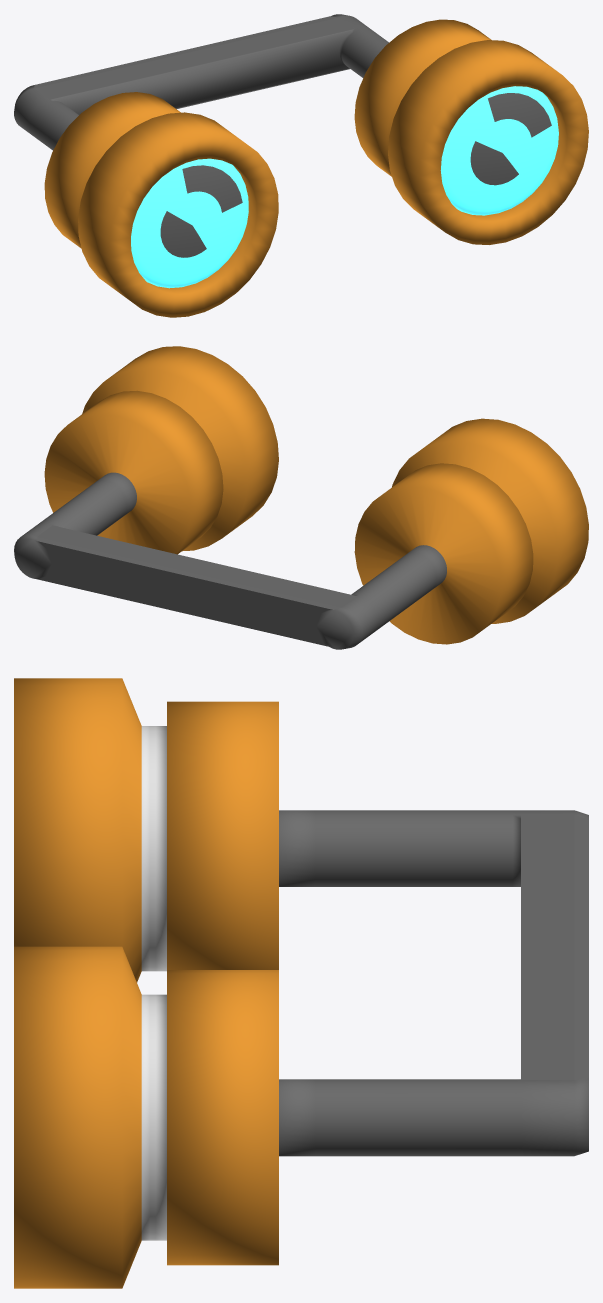
Rendered from eyes7.glb.
3 renders of one model, top to bottom at view 1: azimuth 30°, elevation 25°; view 2: azimuth 150°, elevation 25°; view 3: azimuth 270°, elevation 25°, orthographic. The views are drawn at different scales.
Visible parts, largest first — view 1: eyes7; view 2: eyes7; view 3: eyes7.
Part boxes in pixels (box(x1,y1,x2,y2)): eyes7: box(14, 14, 588, 317); eyes7: box(14, 346, 588, 649); eyes7: box(14, 678, 588, 1288).
Bounding box in the file's own units: 1.24 × 0.4461 × 0.7379.
